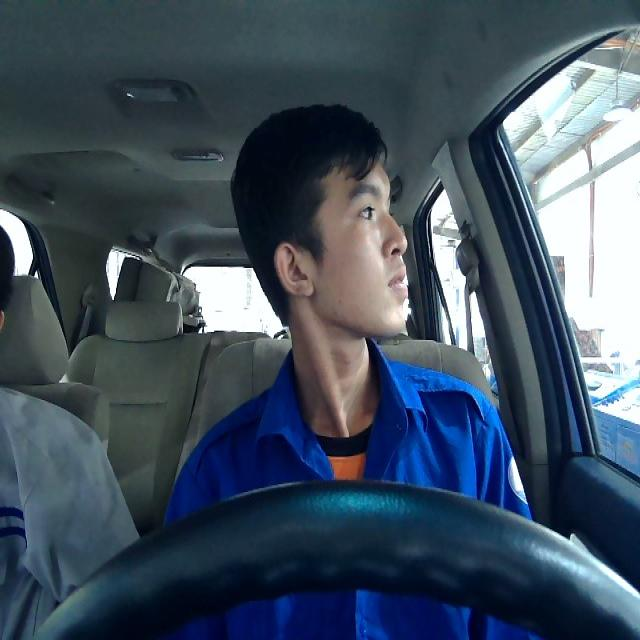seeing_right: (271, 149, 408, 339)
